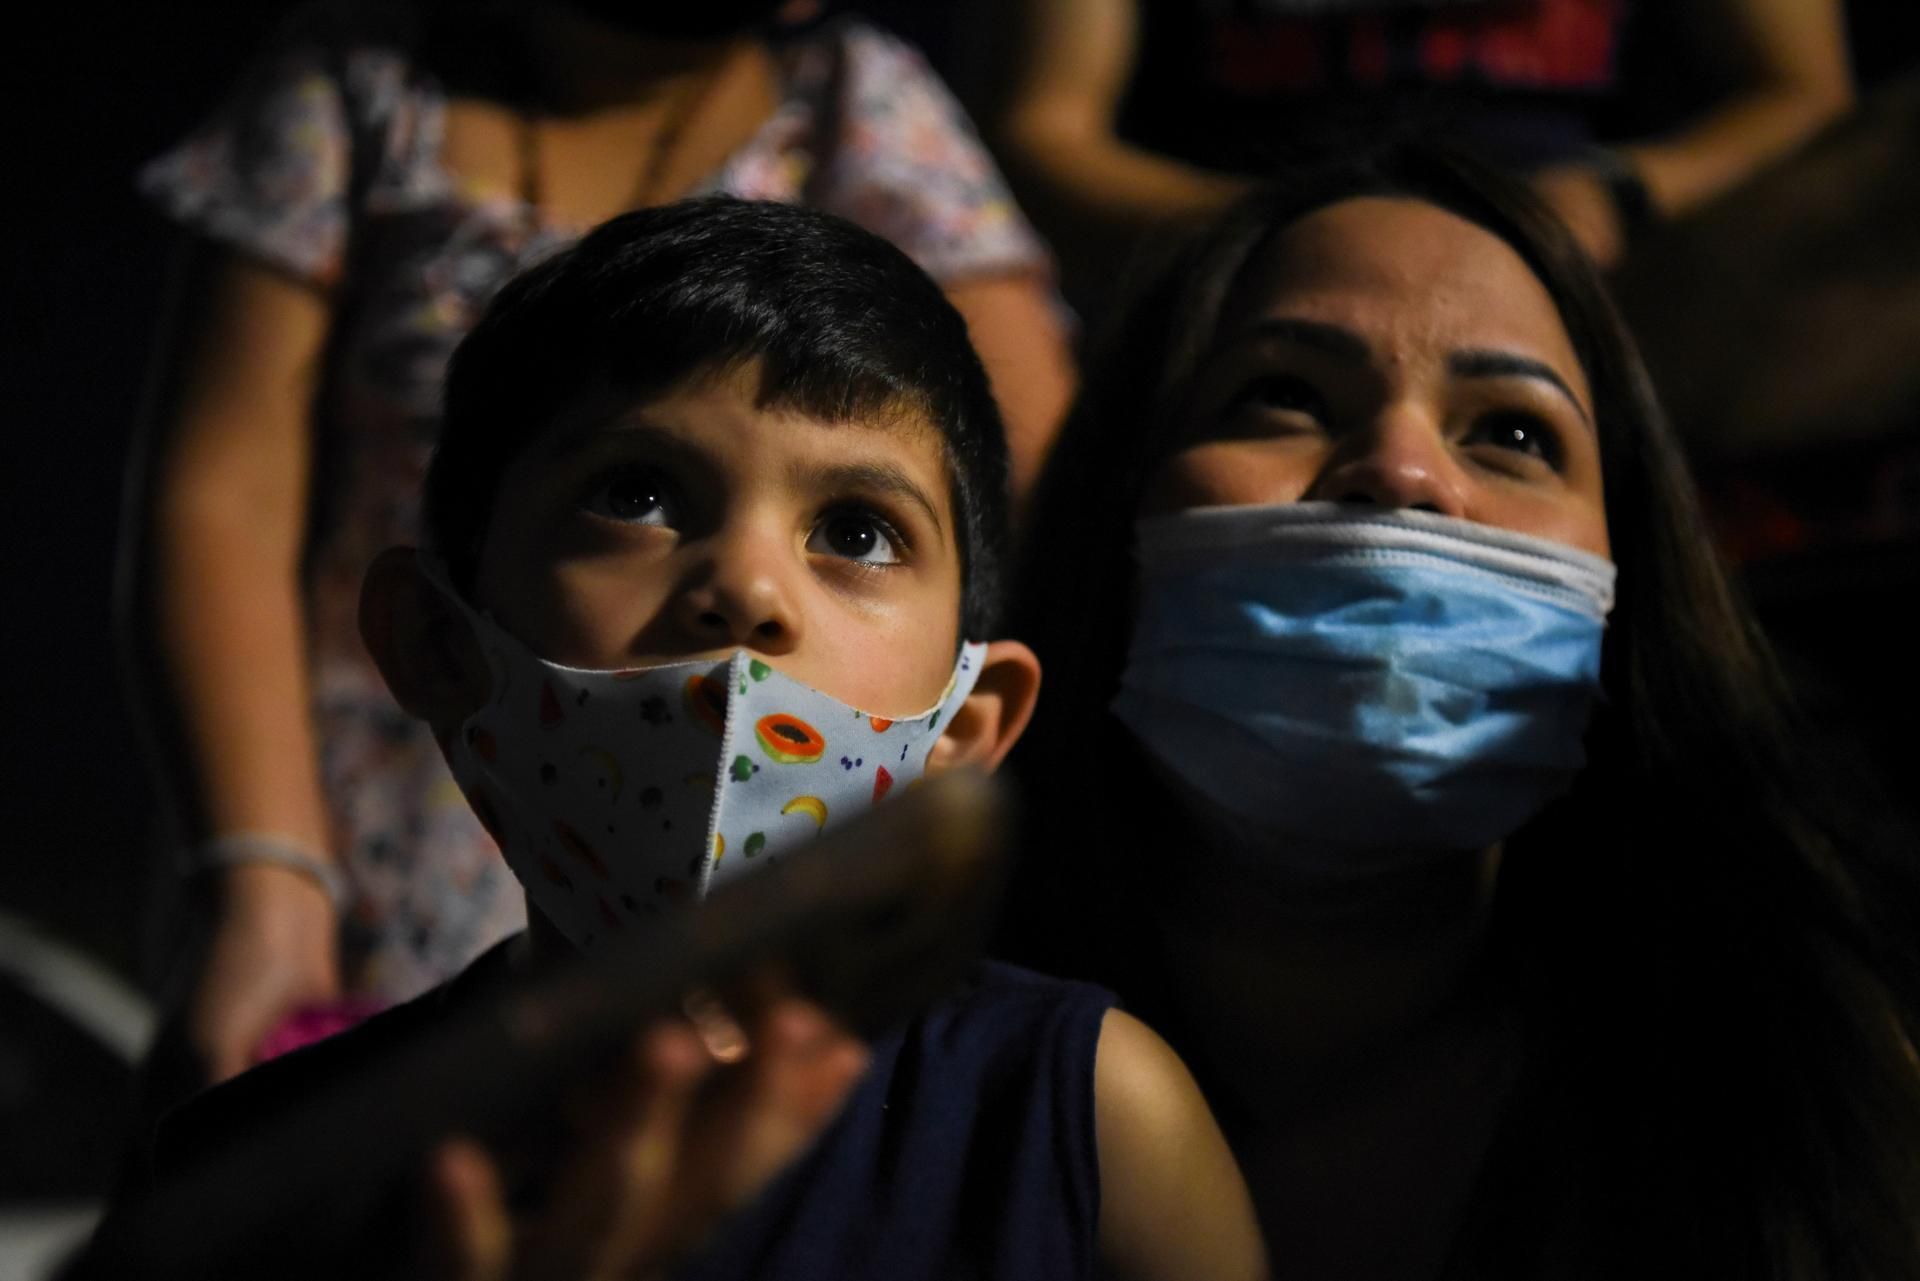with_incorrect_mask: (1143, 251, 1624, 858), (484, 365, 938, 967)
